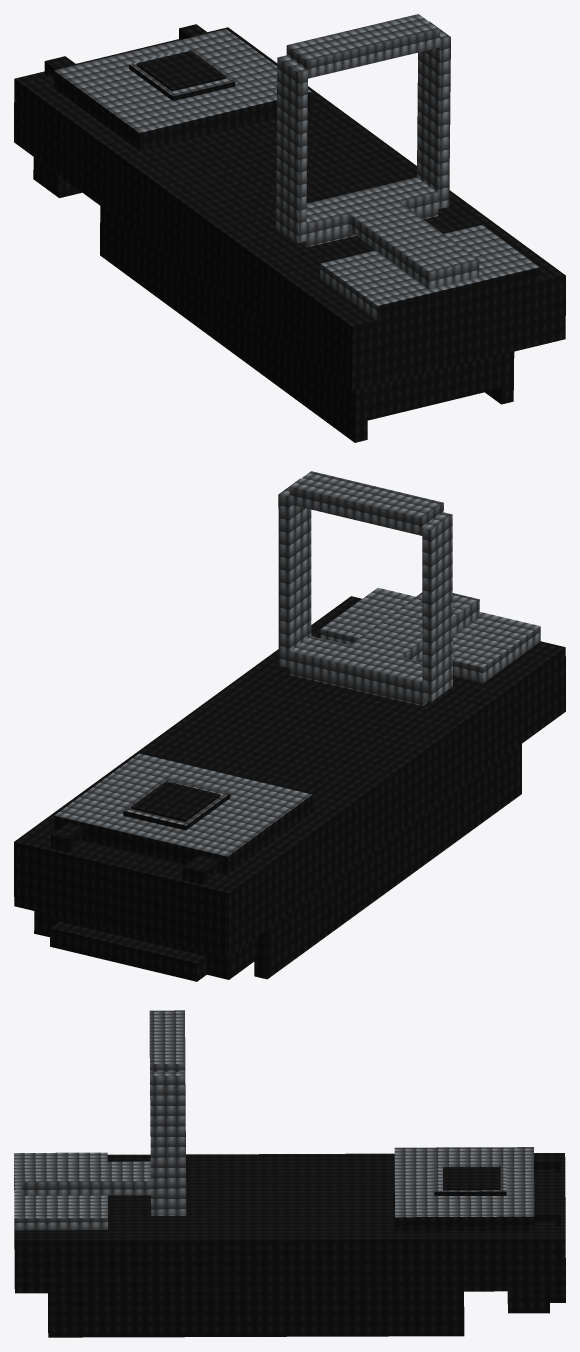
Rendered from kolimator.obj.
The picture shows the model from 3 angles, top to bottom: view 1: azimuth 30°, elevation 25°; view 2: azimuth 150°, elevation 25°; view 3: azimuth 270°, elevation 25°; orthographic projection. The views are drawn at different scales.
Parts seen in each view (by area): view 1: kalomatort; view 2: kalomatort; view 3: kalomatort.
Part boxes in pixels (x1=…): kalomatort: x1=14, y1=14, x2=565, y2=442; kalomatort: x1=14, y1=471, x2=565, y2=981; kalomatort: x1=14, y1=1010, x2=565, y2=1337.
Size of the model in its own units: 0.0469 by 0.0693 by 0.1275.
